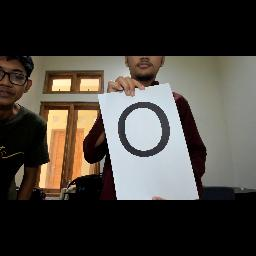o: (116, 96, 178, 160)
